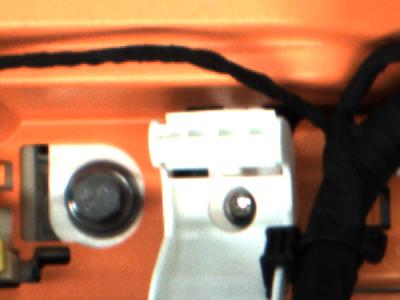nut_b: (67, 156, 154, 238)
